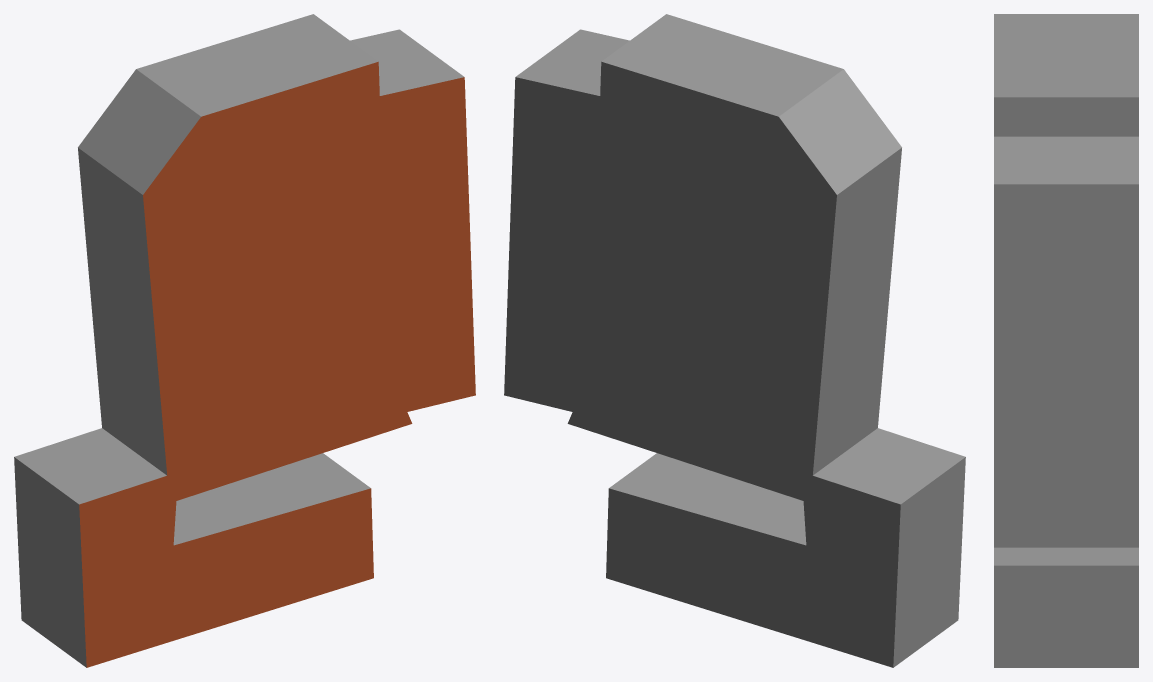
The model's file is construction_1083_assumed_A_Casa_h6m.obj.
3 renders of one model, left to right at view 1: azimuth 30°, elevation 25°; view 2: azimuth 150°, elevation 25°; view 3: azimuth 270°, elevation 25°, orthographic. The views are drawn at different scales.
Visible parts, largest first — view 1: construction_1083_assumed_A_Casa; view 2: construction_1083_assumed_A_Casa; view 3: construction_1083_assumed_A_Casa.
Boxes of the visible parts, x1,y1,x2,y2 form: construction_1083_assumed_A_Casa: (14,14,475,667); construction_1083_assumed_A_Casa: (504,14,965,667); construction_1083_assumed_A_Casa: (994,14,1138,667).
Size of the model in its own units: 21.1 by 27.19 by 6.
